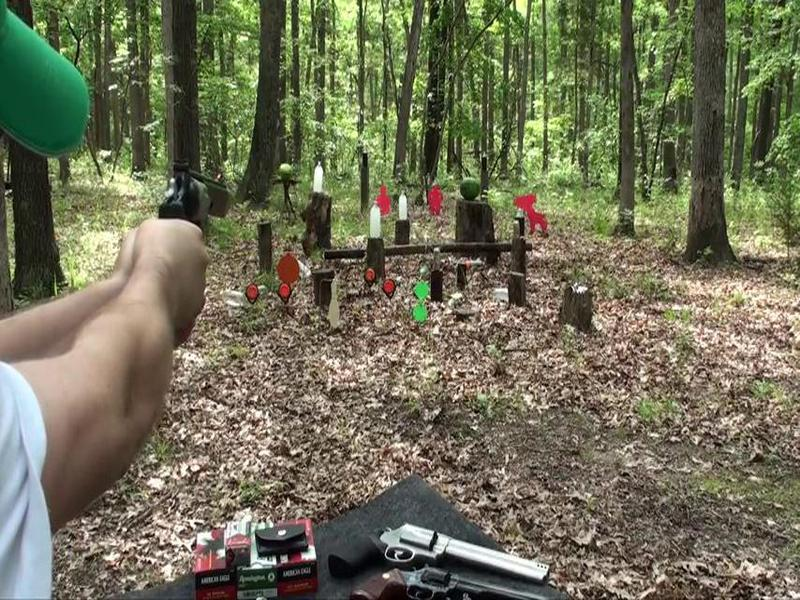Revolver: (143, 150, 238, 254)
